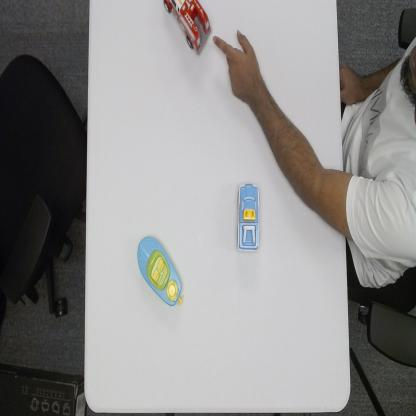Arm: (256, 84, 346, 227)
Boat: (136, 235, 186, 310)
Car: (235, 181, 262, 254)
Firetruck: (161, 0, 212, 56)
Hand: (213, 27, 260, 105)
